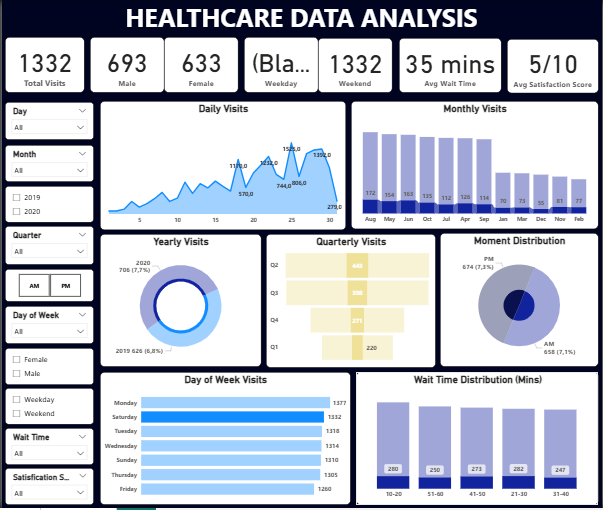

Layout of this report page (visuals, bound fields, positions):
{"tool":"powerbi","page":{"name":"Page 1","canvas":[1282,1086],"ordinal":0},"visuals":[{"type":"stackedAreaChart","title":"Daily Visits","fields":{"Category":["date_time table.day"],"Y":["Sum(date_time table.day)"]},"box":[210,215.7,525.7,275.7],"z":0},{"type":"columnChart","title":"Monthly Visits","fields":{"Category":["date_time table.month"],"Y":["CountNonNull(date_time table.month)"]},"box":[745.7,215.7,528.6,274.3],"z":1000},{"type":"donutChart","title":"Yearly Visits","fields":{"Y":["CountNonNull(date_time table.year)"],"Category":["date_time table.year"]},"box":[210,500,345,283.8],"z":2000},{"type":"clusteredBarChart","title":"Day of Week Visits","fields":{"Category":["date_time table.day of week"],"Y":["CountNonNull(date_time table.day of week)"]},"box":[210,795.7,535.7,284.3],"z":3000},{"type":"funnel","title":"Quarterly Visits","fields":{"Category":["date_time table.quarter"],"Y":["CountNonNull(date_time table.quarter)"]},"box":[564.3,499.4,362.9,285.7],"z":4000},{"type":"pieChart","title":"Moment Distribution","fields":{"Category":["date_time table.Moment"],"Y":["CountNonNull(date_time table.Moment)"]},"box":[935.7,498,338.6,285.7],"z":5000},{"type":"textbox","box":[0,0,1280,74.3],"z":6000},{"type":"lineStackedColumnComboChart","title":"Wait Time Distribution (Mins)","fields":{"Category":["date_time table.waittime_bucket"],"Y":["CountNonNull(date_time table.waittime_bucket)"]},"box":[755.7,795.7,518.6,284.3],"z":7000},{"type":"slicer","fields":{"Values":["date_time table.day of week"]},"box":[6.2,653.8,190,81.2],"z":8000},{"type":"slicer","fields":{"Values":["date_time table.Moment"]},"box":[6.2,575,190,70],"z":9000},{"type":"slicer","fields":{"Values":["date_time table.quarter"]},"box":[6.2,483.8,190,82.5],"z":10000},{"type":"slicer","fields":{"Values":["date_time table.year"]},"box":[6.2,397.5,190,77.5],"z":11000},{"type":"slicer","fields":{"Values":["date_time table.month"]},"box":[6.2,310,190,78.8],"z":12000},{"type":"slicer","fields":{"Values":["date_time table.day"]},"box":[5.7,218.2,190,81.4],"z":13000},{"type":"slicer","fields":{"Values":["patient table.patient_gender"]},"box":[6.2,743.8,190,78.8],"z":14000},{"type":"slicer","fields":{"Values":["date_time table.weekday/weekend"]},"box":[6.2,830,190,77.5],"z":15000},{"type":"slicer","fields":{"Values":["date_time table.waittime_bucket"]},"box":[6.2,915,190,78.8],"z":16000},{"type":"slicer","fields":{"Values":["activity table.satisfication_score"]},"box":[6.2,1001.2,190,78.8],"z":17000},{"type":"card","fields":{"Values":["Count(patient table.patient_id)"]},"box":[5.7,80,170,118.6],"z":18000},{"type":"card","fields":{"Values":["CountNonNull(patient table.patient_gender)"]},"box":[187.7,79.8,158.6,118.6],"z":19000},{"type":"card","fields":{"Values":["CountNonNull(patient table.patient_gender)"]},"box":[347,79.7,159.4,118.8],"z":20000},{"type":"card","fields":{"Values":["date_time table.Avg Wait Time"]},"box":[847.8,81.2,218.8,117.4],"z":21000},{"type":"card","fields":{"Values":["date_time table.Avg Satisfication Score"]},"box":[1079.7,82.6,195.7,115.9],"z":22000},{"type":"card","fields":{"Values":["CountNonNull(date_time table.weekday/weekend)"]},"box":[517.7,79.7,158.6,118.6],"z":23000},{"type":"card","fields":{"Values":["CountNonNull(date_time table.weekday/weekend)"]},"box":[676.3,81.2,158.6,117.1],"z":24000}]}

Visuals, with their boxes in screenshot pixels (x1, y1, x2, y2), scaled from the page's 1282x1086 canvas onto the 603x510 screenshot:
"Daily Visits" stackedAreaChart: 99/101/346/231
"Monthly Visits" columnChart: 351/101/599/230
"Yearly Visits" donutChart: 99/235/261/368
"Day of Week Visits" clusteredBarChart: 99/374/351/507
"Quarterly Visits" funnel: 265/235/436/369
"Moment Distribution" pieChart: 440/234/599/368
textbox: 0/0/602/35
"Wait Time Distribution (Mins)" lineStackedColumnComboChart: 355/374/599/507
slicer - date_time table.day of week: 3/307/92/345
slicer - date_time table.Moment: 3/270/92/303
slicer - date_time table.quarter: 3/227/92/266
slicer - date_time table.year: 3/187/92/223
slicer - date_time table.month: 3/146/92/183
slicer - date_time table.day: 3/102/92/141
slicer - patient table.patient_gender: 3/349/92/386
slicer - date_time table.weekday/weekend: 3/390/92/426
slicer - date_time table.waittime_bucket: 3/430/92/467
slicer - activity table.satisfication_score: 3/470/92/507
card - Count(patient table.patient_id): 3/38/83/93
card - CountNonNull(patient table.patient_gender): 88/37/163/93
card - CountNonNull(patient table.patient_gender): 163/37/238/93
card - date_time table.Avg Wait Time: 399/38/502/93
card - date_time table.Avg Satisfication Score: 508/39/600/93
card - CountNonNull(date_time table.weekday/weekend): 244/37/318/93
card - CountNonNull(date_time table.weekday/weekend): 318/38/393/93
